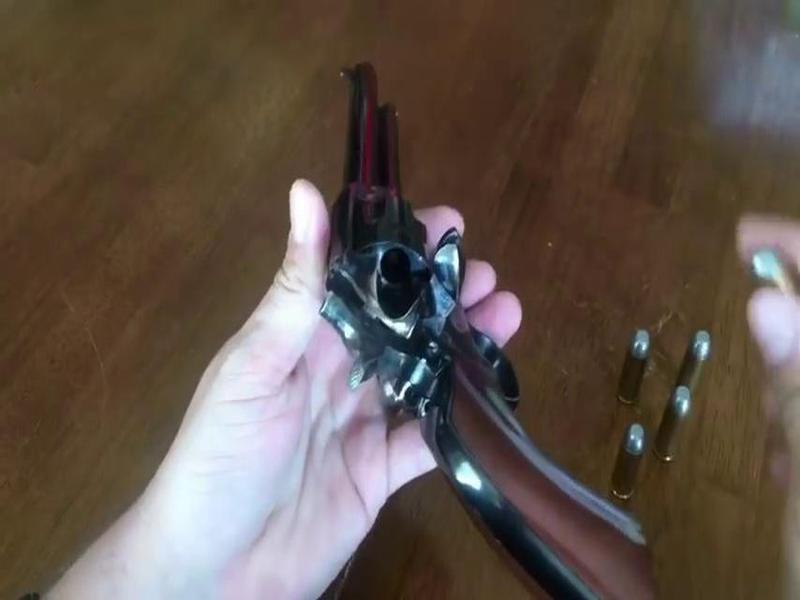Revolver: (260, 58, 627, 586)
